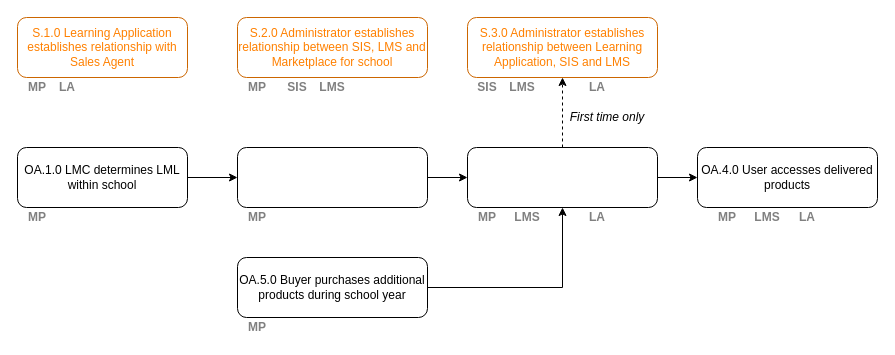
The diagram is 895 pixels wide and 355 high, and some of its shapes have lost their labels. The box of each missing label's shape, as (x1, y1, x2, y2) in pixels:
OA.2.0 LMC provides LML to Sales Agent: (236, 146, 428, 208)
OA.3.0 Sales Agent delivers purchased products: (466, 146, 658, 208)
